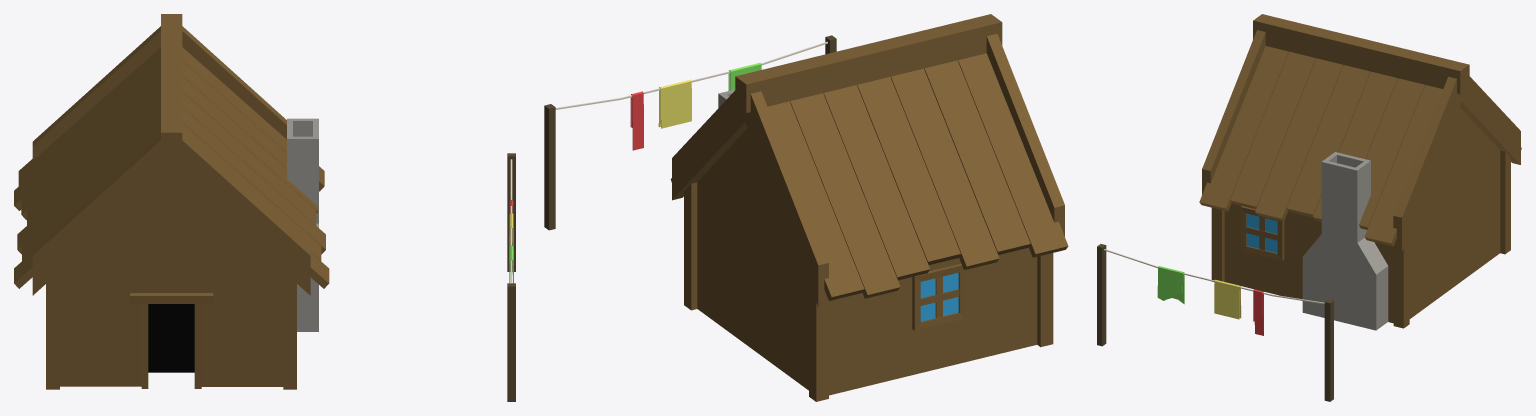
Rendered from house_and_clothesline.fbx.
3 renders of one model, left to right at view 1: azimuth 30°, elevation 25°; view 2: azimuth 150°, elevation 25°; view 3: azimuth 270°, elevation 25°, orthographic. The views are drawn at different scales.
Visible parts, largest first — view 1: casa, varal; view 2: casa, varal; view 3: casa, varal.
Part boxes in pixels (x1,y1,x2,y2): casa: (14, 14, 329, 389); varal: (507, 153, 515, 401); casa: (670, 14, 1068, 401); varal: (544, 35, 836, 230); casa: (1199, 14, 1521, 330); varal: (1097, 244, 1333, 401).
Size of the model in its own units: 906 by 453 by 781.
